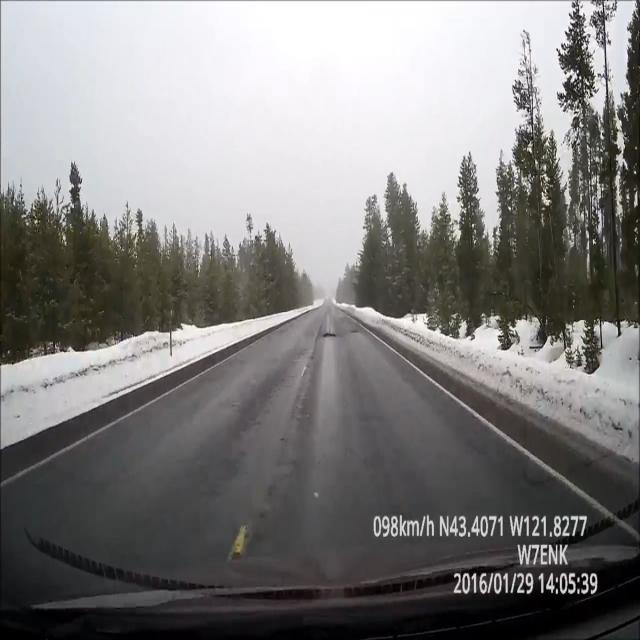Pothole: (316, 322, 343, 350)
